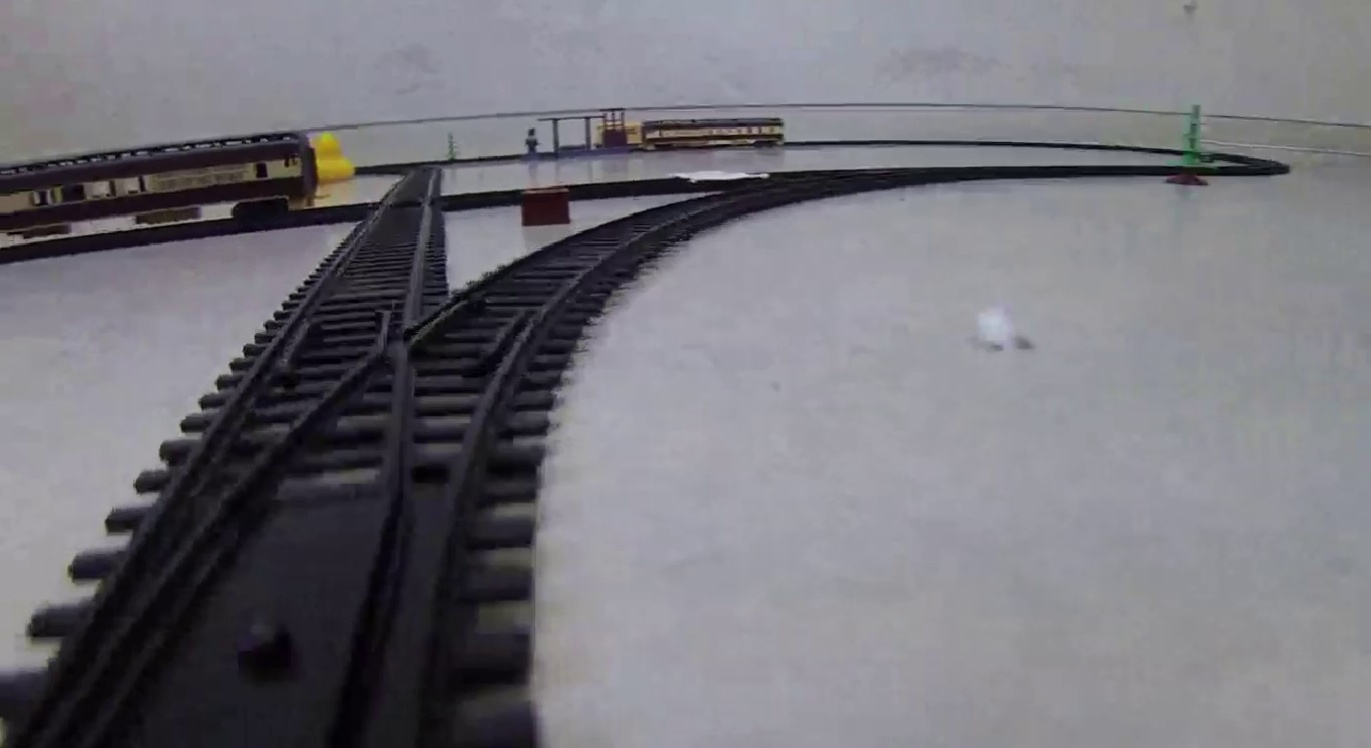box: (523, 190, 567, 223)
tree: (1168, 106, 1208, 184)
